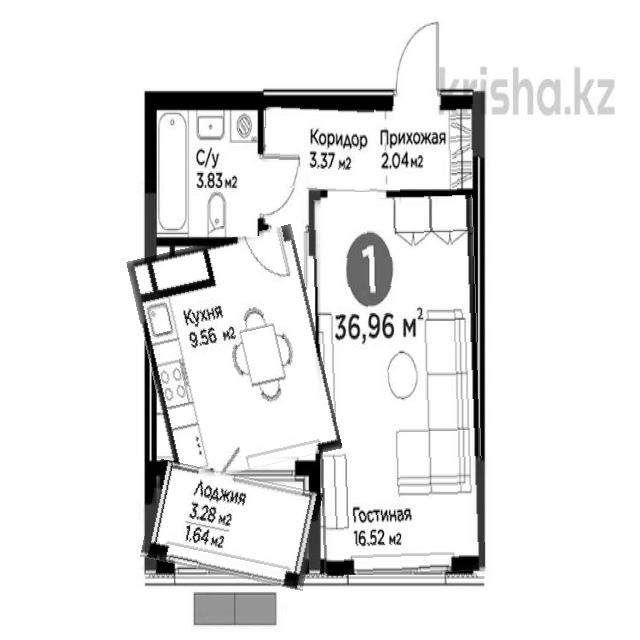balcony: (145, 467, 319, 583)
bathroom: (150, 96, 259, 236)
hallway: (262, 105, 373, 191), (377, 105, 479, 196)
kitchen: (138, 232, 331, 478)
living_room: (315, 197, 482, 575)
